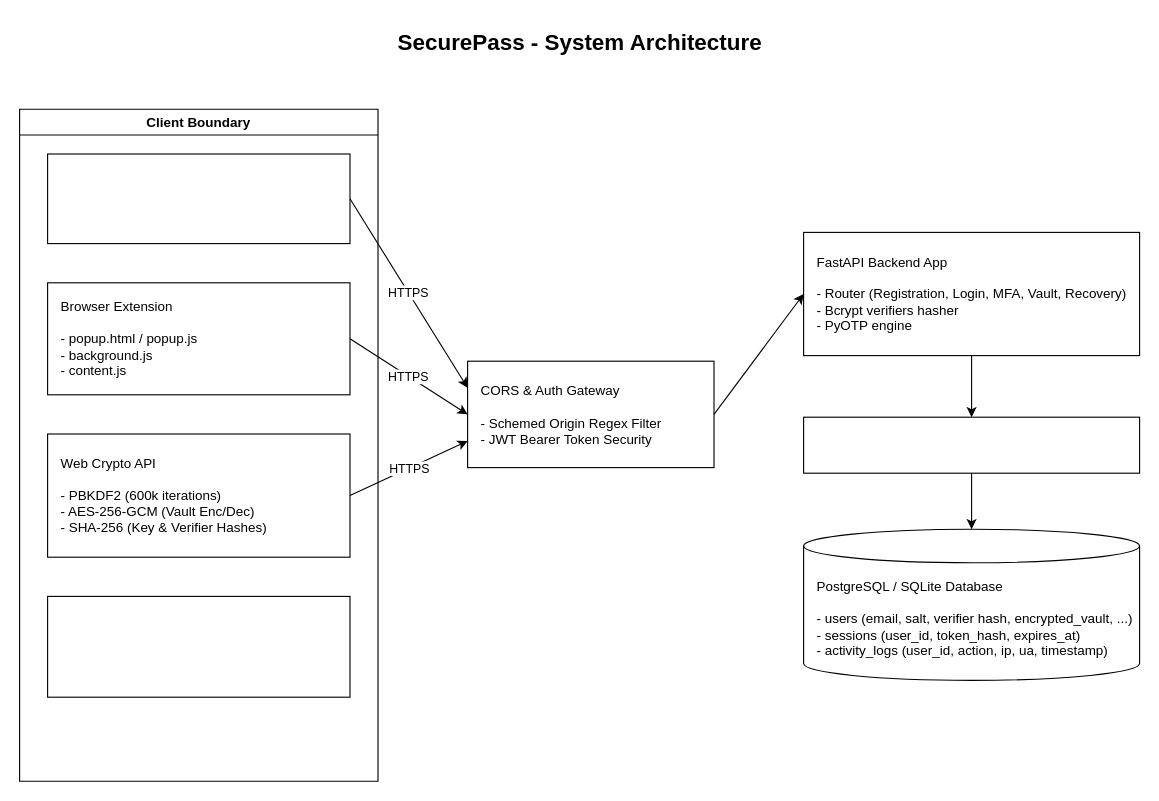
The diagram is 1159 pixels wide and 801 high, and some of its shapes have lost their labels. The centre of each missing label's shape, as x and y in pixels:
In-Memory State - Master Key (in memory only) - Decrypted/Encrypted Vault: point 198,646
React Web App - AuthContext.jsx - api.js: point 198,198
SQLAlchemy ORM: point 971,444
